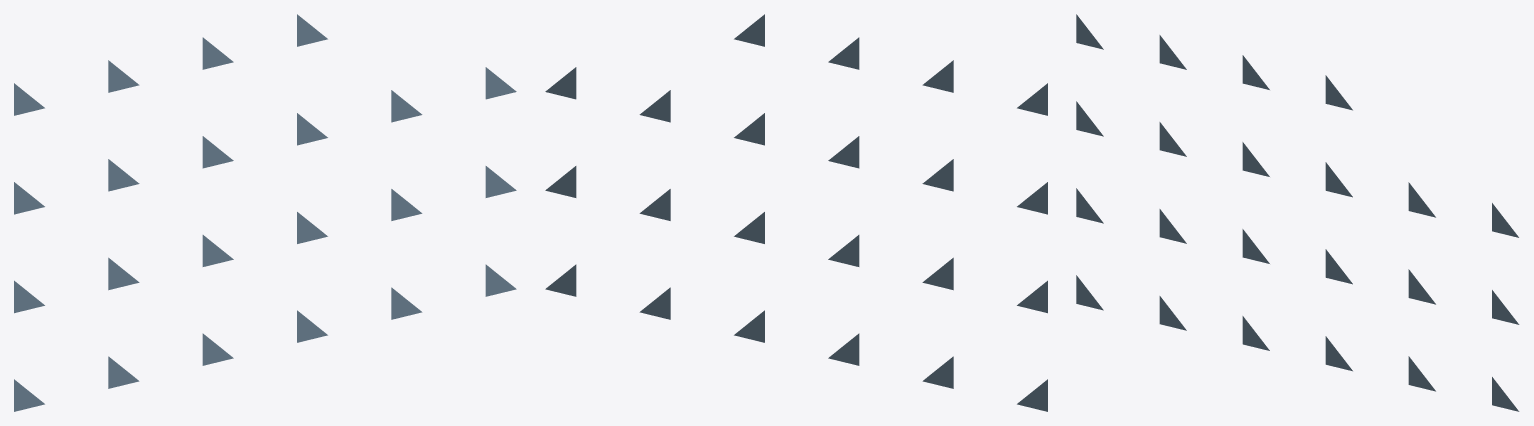
The model's file is async-static-meshlets.gltf.
3 views of the same model, side by side, from view 1: azimuth 30°, elevation 25°; view 2: azimuth 150°, elevation 25°; view 3: azimuth 330°, elevation 25° (orthographic). The views are drawn at different scales.
Parts seen in each view (by area): view 1: offset-node; view 2: offset-node; view 3: offset-node.
Boxes of the visible parts, x1,y1,x2,y2 form: offset-node: [14, 14, 516, 411]; offset-node: [545, 14, 1047, 411]; offset-node: [1076, 14, 1519, 411].
Bounding box in the file's own units: 16 × 10 × 0.
